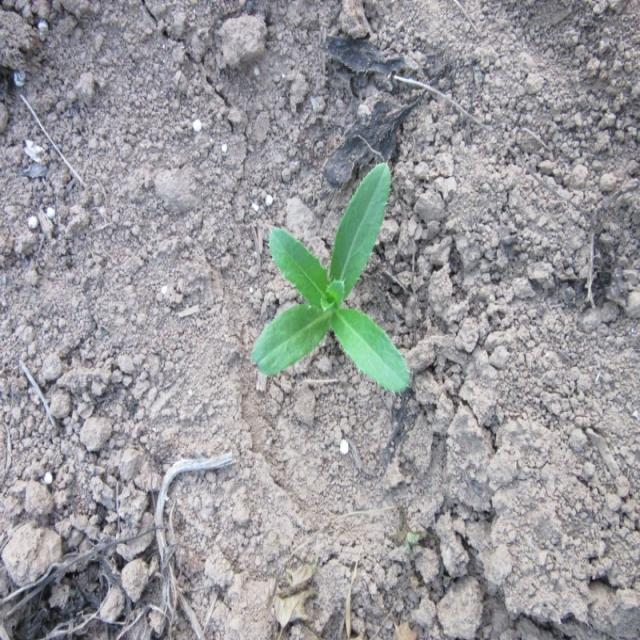cs: (248, 155, 419, 405)
